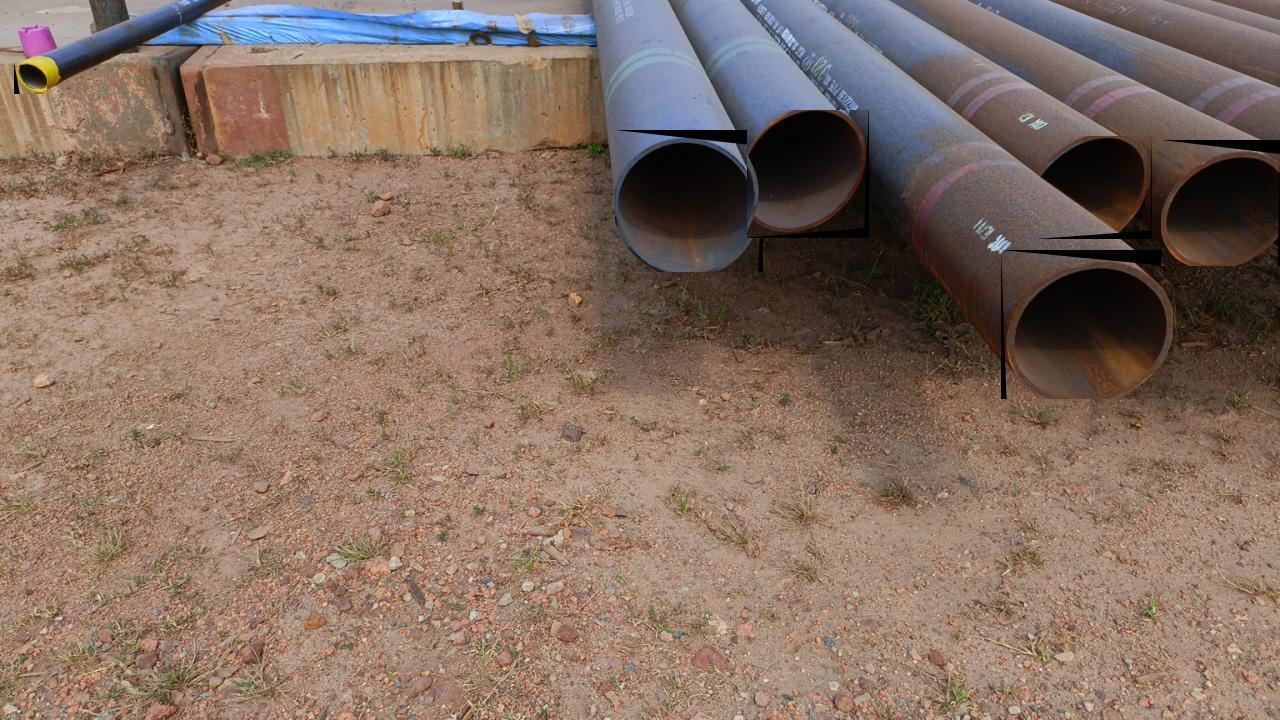pipe: (1001, 250, 1173, 399), (615, 130, 763, 272), (747, 110, 869, 238), (1161, 140, 1280, 266), (1037, 136, 1152, 239), (14, 62, 47, 94)
